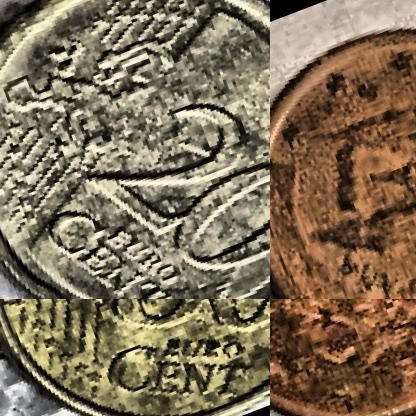coin: (0, 0, 269, 298), (270, 0, 415, 298), (0, 299, 269, 415), (270, 299, 415, 415)
